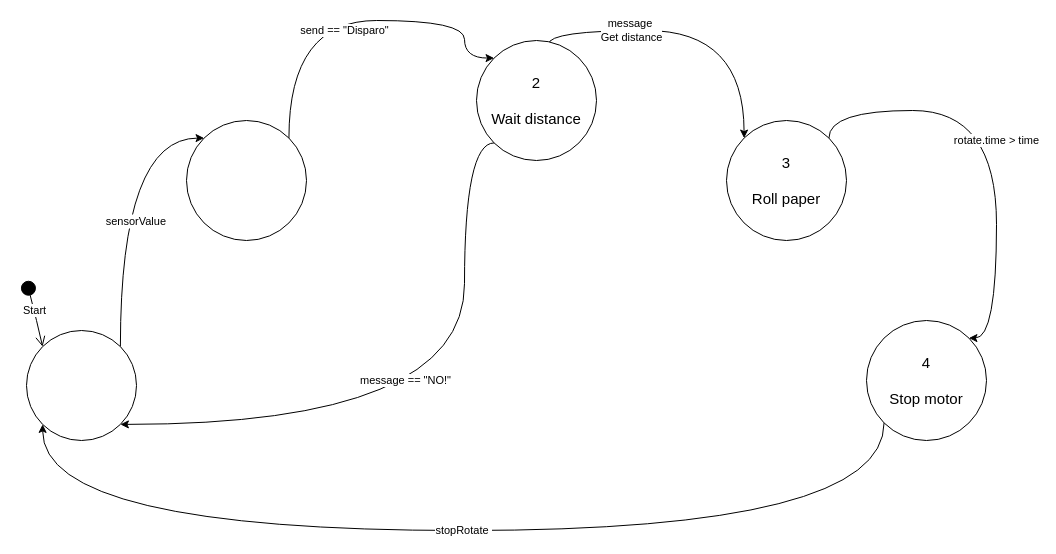
This 1056x554 diagram has some shape labels left out. Each missing label, with the centre of its shape:
0 Wait shoot: pixel 81 385
1 Send shoot message: pixel 246 180
